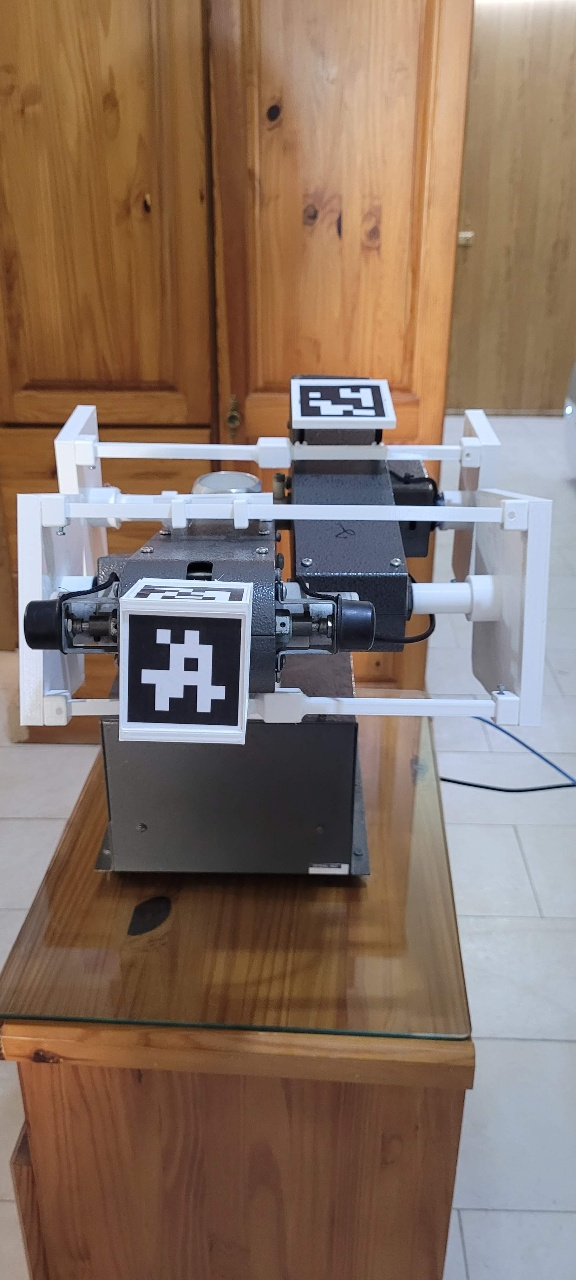Robot: (124, 73, 551, 957)
